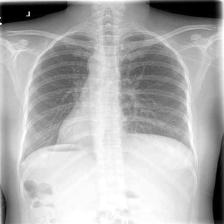normal: (18, 32, 198, 174)
